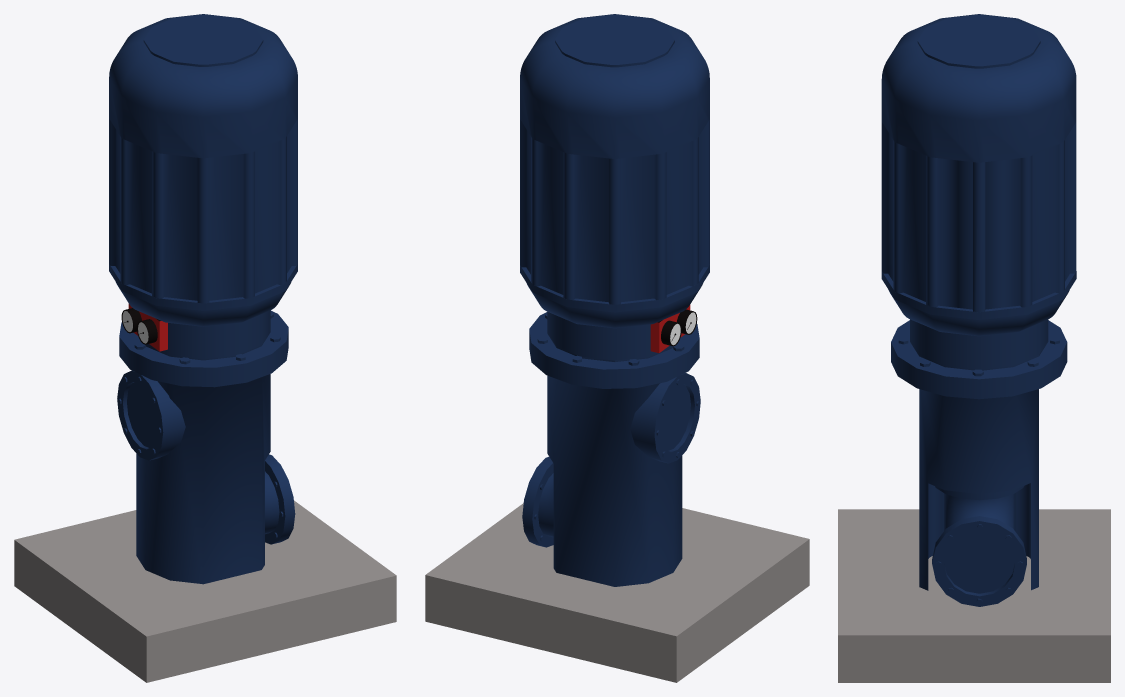
Rendered from CIRC PUMP.fbx.
The picture shows the model from 3 angles, left to right: view 1: azimuth 30°, elevation 25°; view 2: azimuth 150°, elevation 25°; view 3: azimuth 270°, elevation 25°; orthographic projection. The views are drawn at different scales.
Parts seen in each view (by area): view 1: Group2, Group1, WATER_PUMP240_1, Group61, Group49, Group40, Group58, Group4, Group3; view 2: Group2, Group1, WATER_PUMP240_1, Group61, Group49, Group40, Group58, Group4, Group3; view 3: Group2, Group1, WATER_PUMP240_1, Group22, Group49, Group4, Group40, Group3, Group31.
Part boxes in pixels (x1,y1,x2,y2): Group2: (109, 14, 297, 326); Group1: (14, 500, 396, 682); WATER_PUMP240_1: (136, 310, 270, 584); Group61: (117, 370, 185, 460); Group49: (119, 310, 288, 377); Group40: (119, 339, 288, 387); Group58: (121, 303, 167, 351); Group4: (265, 457, 290, 544); Group3: (265, 471, 279, 534); Group2: (520, 14, 709, 328); Group1: (425, 503, 809, 682); WATER_PUMP240_1: (547, 312, 682, 586); Group61: (630, 373, 700, 463); Group49: (529, 312, 699, 379); Group40: (529, 340, 699, 388); Group58: (650, 305, 697, 353); Group4: (527, 459, 553, 547); Group3: (538, 473, 553, 537); Group2: (881, 14, 1076, 336); Group1: (838, 509, 1110, 682); WATER_PUMP240_1: (910, 319, 1048, 590); Group22: (932, 518, 1026, 606); Group49: (891, 320, 1067, 389); Group4: (932, 516, 1026, 593); Group40: (891, 352, 1067, 399); Group3: (944, 493, 1015, 530); Group31: (935, 486, 1023, 500).
Bounding box in the file's own units: 39.5 × 84.85 × 36.19.
